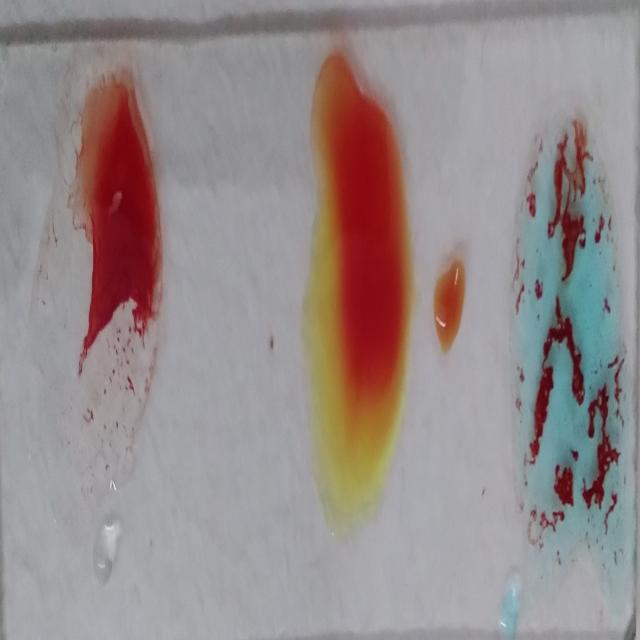A: (502, 122, 625, 584)
D: (31, 65, 160, 555)
